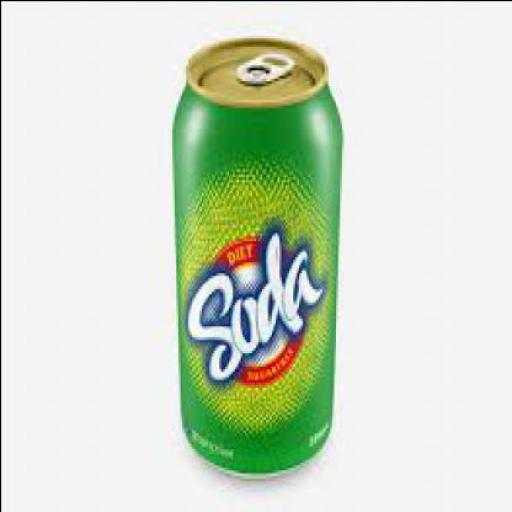metal: (167, 35, 341, 470)
